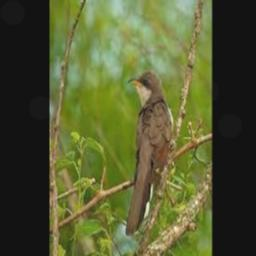Cuckoo: (125, 70, 173, 235)
